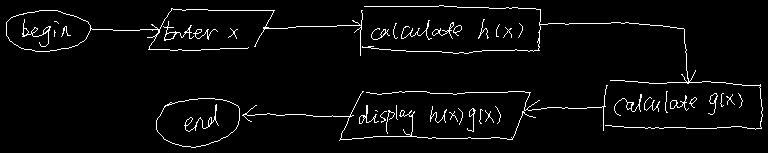arrow: (539, 22, 695, 83), (242, 105, 353, 121), (522, 100, 605, 117), (263, 20, 361, 32), (90, 24, 159, 37)
data: (339, 91, 530, 140), (148, 8, 274, 50)
process: (360, 5, 540, 55), (603, 80, 762, 130)
terminator: (156, 98, 239, 147), (6, 10, 90, 51)
text: (359, 105, 500, 135), (614, 91, 742, 115), (371, 19, 522, 39), (163, 21, 237, 40), (22, 19, 70, 46), (184, 104, 218, 131)
